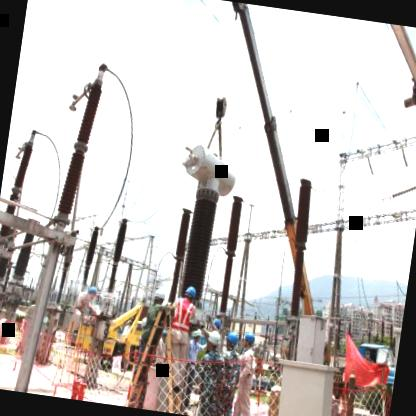helmet: (202, 328, 222, 356), (222, 330, 243, 353), (180, 283, 200, 305), (239, 328, 258, 350), (150, 285, 167, 306)
